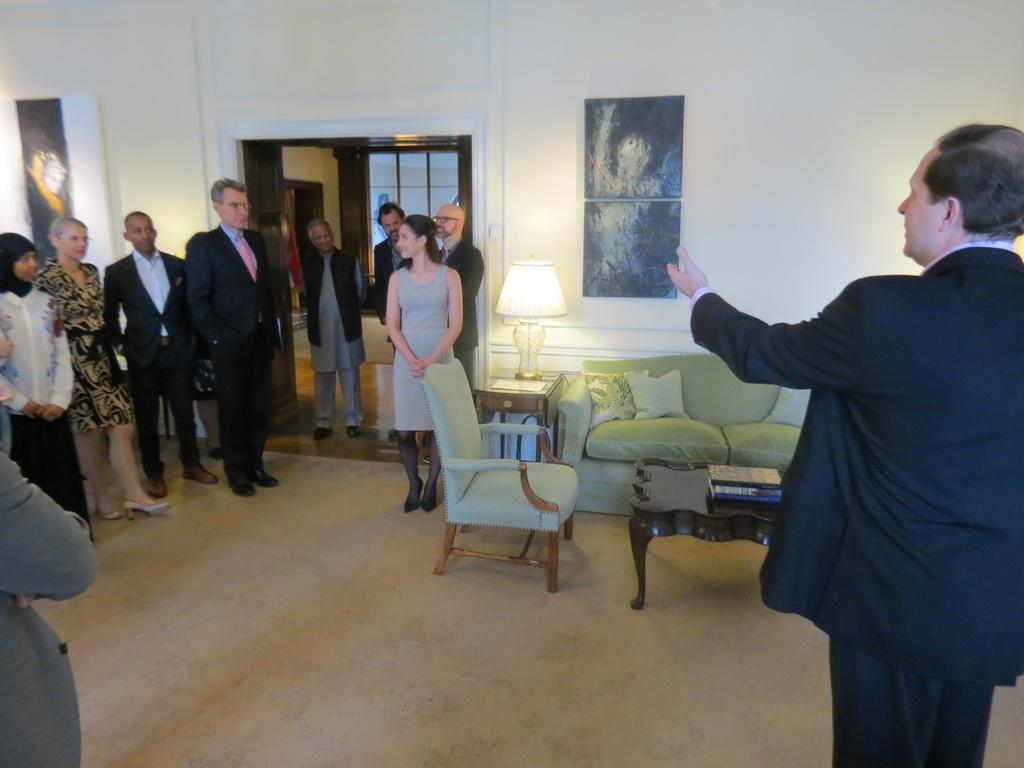Chair: (422, 397, 586, 594)
